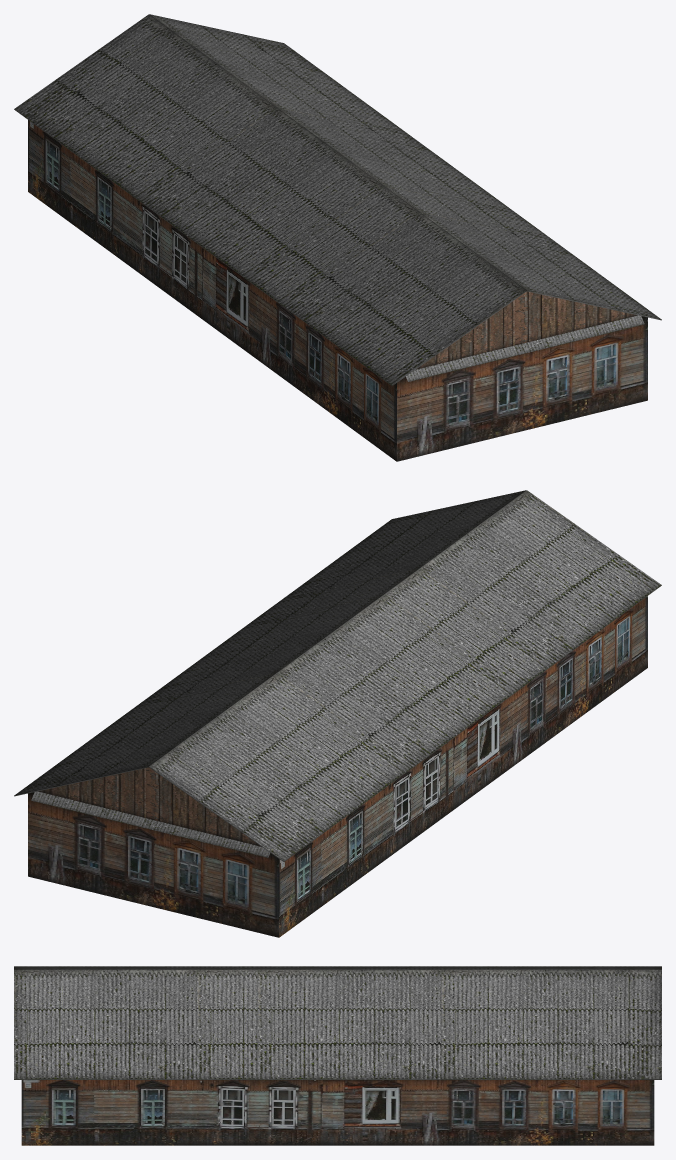
The model's file is sibir_barak.FBX.
3 views of the same model, one above another, from view 1: azimuth 30°, elevation 25°; view 2: azimuth 150°, elevation 25°; view 3: azimuth 270°, elevation 25° (orthographic). The views are drawn at different scales.
Visible parts, largest first — view 1: sibir_barak; view 2: sibir_barak; view 3: sibir_barak.
Part boxes in pixels (x1,y1,x2,y2): sibir_barak: [14, 14, 661, 461]; sibir_barak: [14, 490, 661, 937]; sibir_barak: [14, 966, 661, 1145].
Bounding box in the file's own units: 1193 × 2889 × 607.
